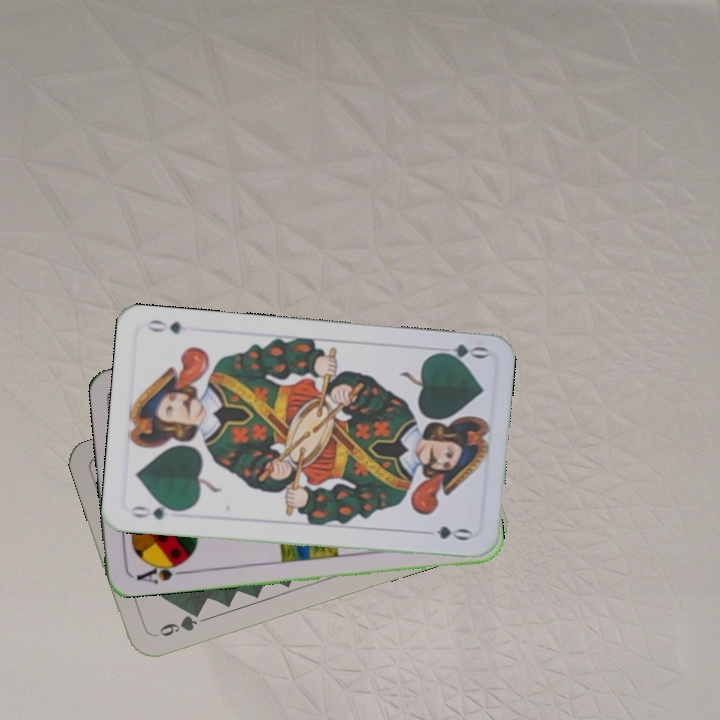G9: (150, 606, 204, 640)
GO: (430, 340, 490, 365), (126, 499, 185, 523)
SA: (132, 556, 189, 586)
